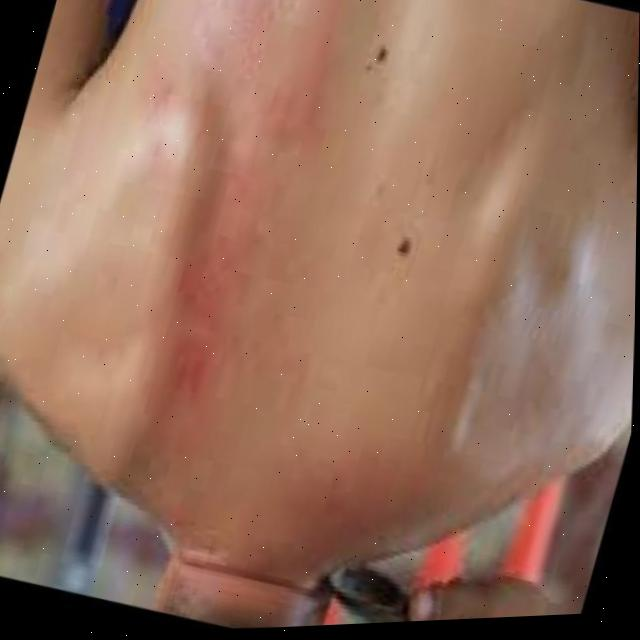Eczema: (127, 0, 337, 438)
